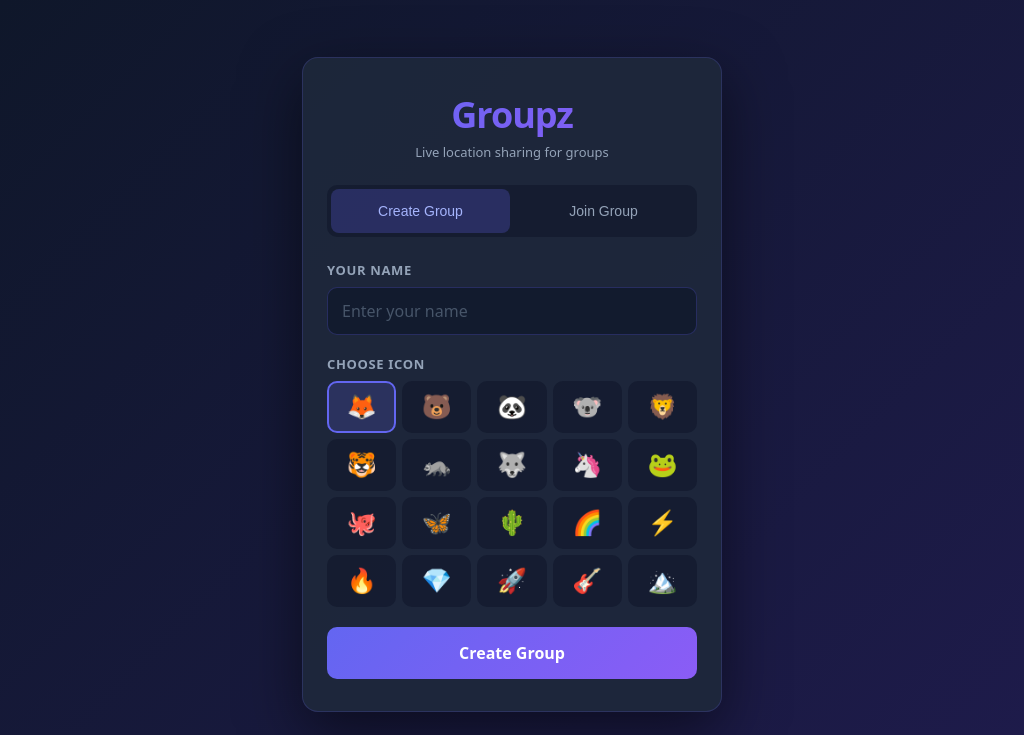
Test: Home › validation › shows error when joining without a code
The width and height of the screenshot is (1024, 735).
Click the button "Join Group".
click(604, 210)  # box [514,188,693,232]
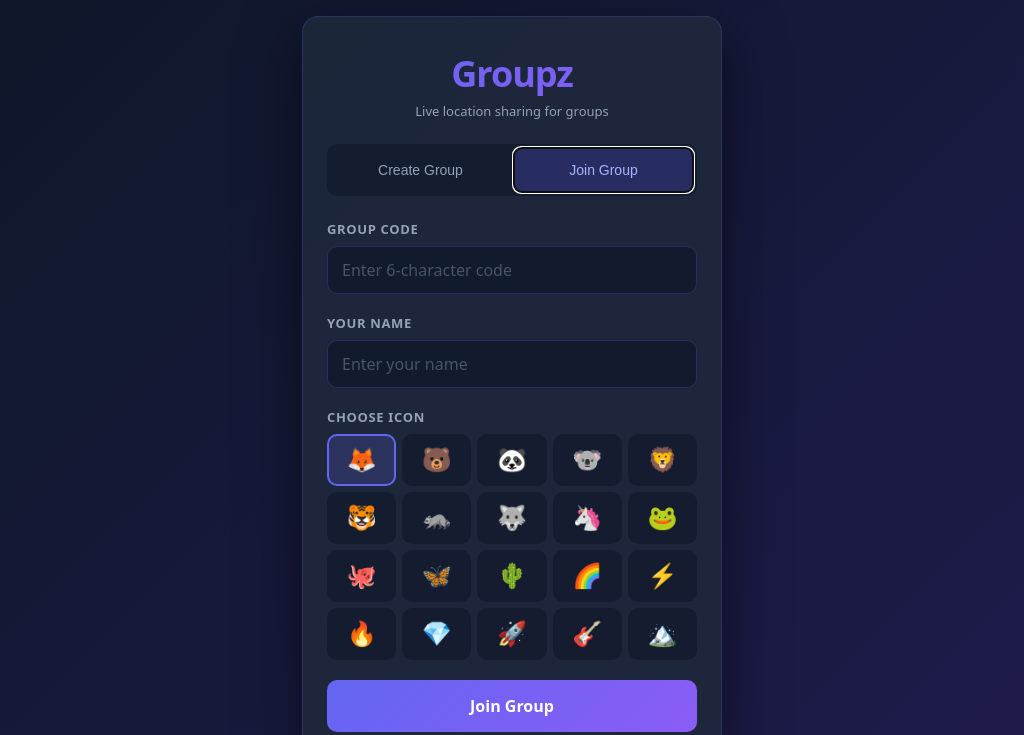
Type "Alice" into the field with placeholder "Enter your name".
click(512, 364); type("Alice")  # box [327,340,697,388]
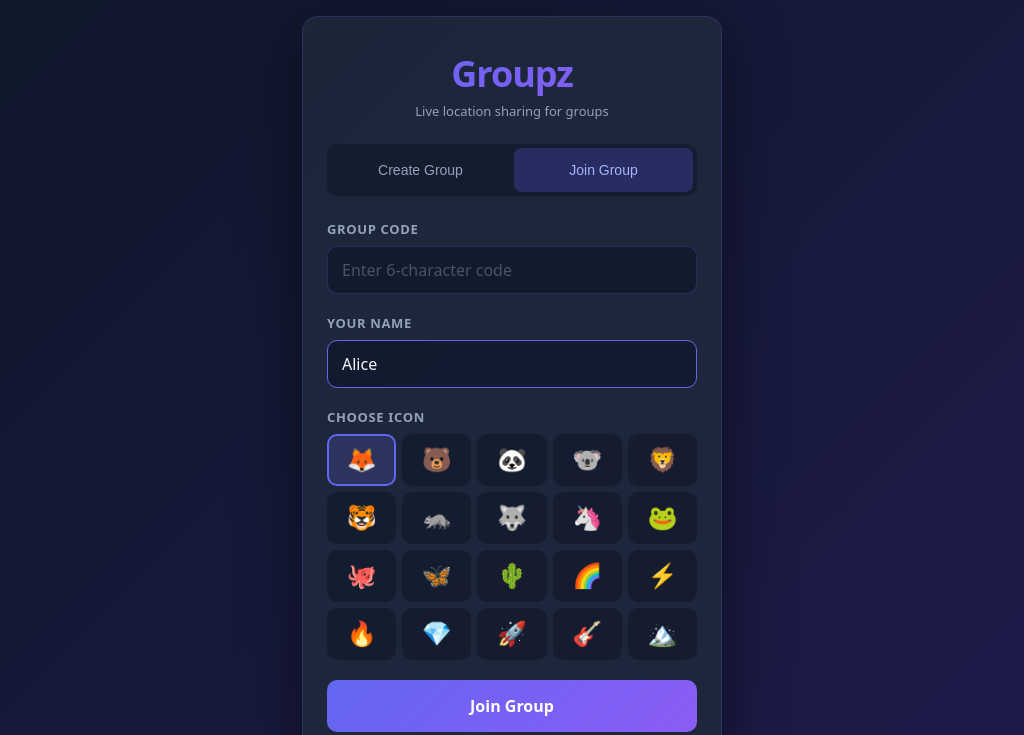
Click the button "Join Group" below "Choose Icon".
click(512, 706)  # box [327,680,697,732]
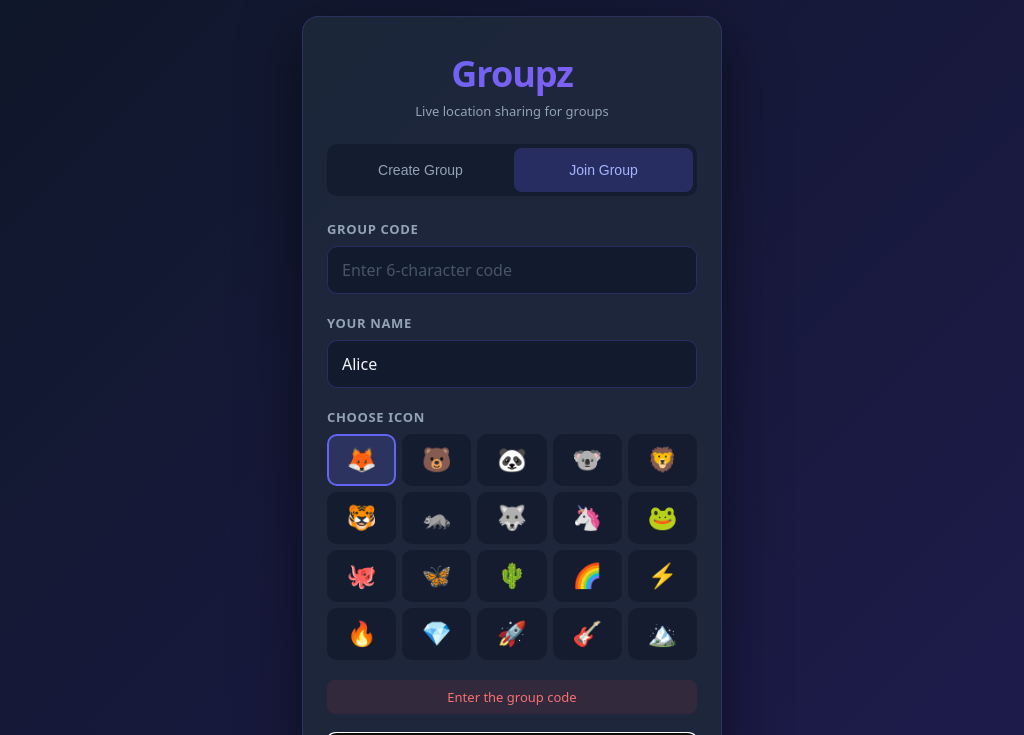
Check: the text "Enter the group code" is shown, box [327,680,697,714]
